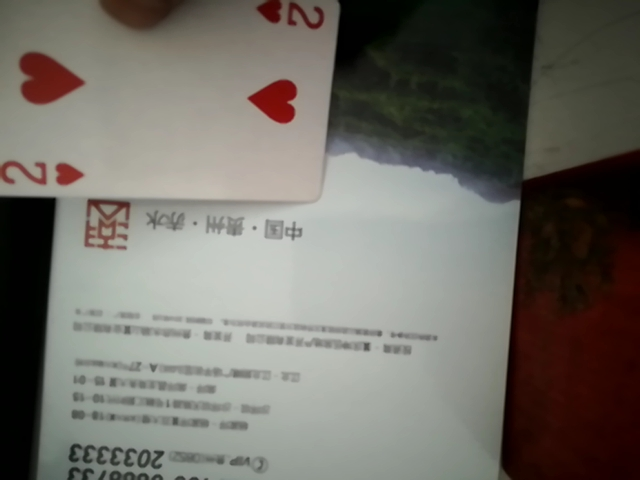hx 2: (2, 0, 344, 209)
